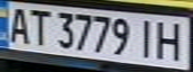3: (51, 9, 75, 50)
7: (90, 12, 112, 54), (72, 11, 93, 52)
9: (109, 15, 133, 56)
A: (3, 3, 33, 44)
H: (151, 18, 190, 61)
I: (133, 17, 160, 60)
T: (24, 7, 51, 46)
